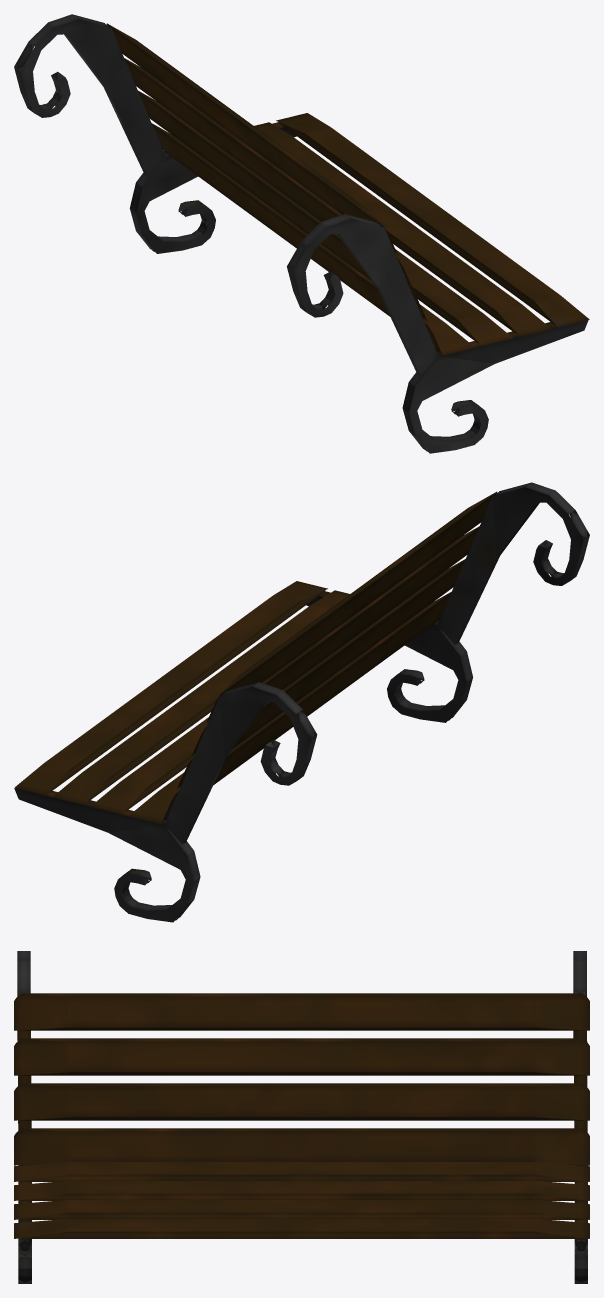
File: BancoZefir.fbx
3 renders of one model, top to bottom at view 1: azimuth 30°, elevation 25°; view 2: azimuth 150°, elevation 25°; view 3: azimuth 270°, elevation 25°, orthographic.
Visible parts, largest first — view 1: ZefirBanco; view 2: ZefirBanco; view 3: ZefirBanco.
Boxes of the visible parts, x1,y1,x2,y2 form: ZefirBanco: (14,14,589,453); ZefirBanco: (14,482,589,922); ZefirBanco: (14,951,589,1283).
Size of the model in its own units: 125 by 103 by 206.
Materials: 1 (1 with a texture image).
